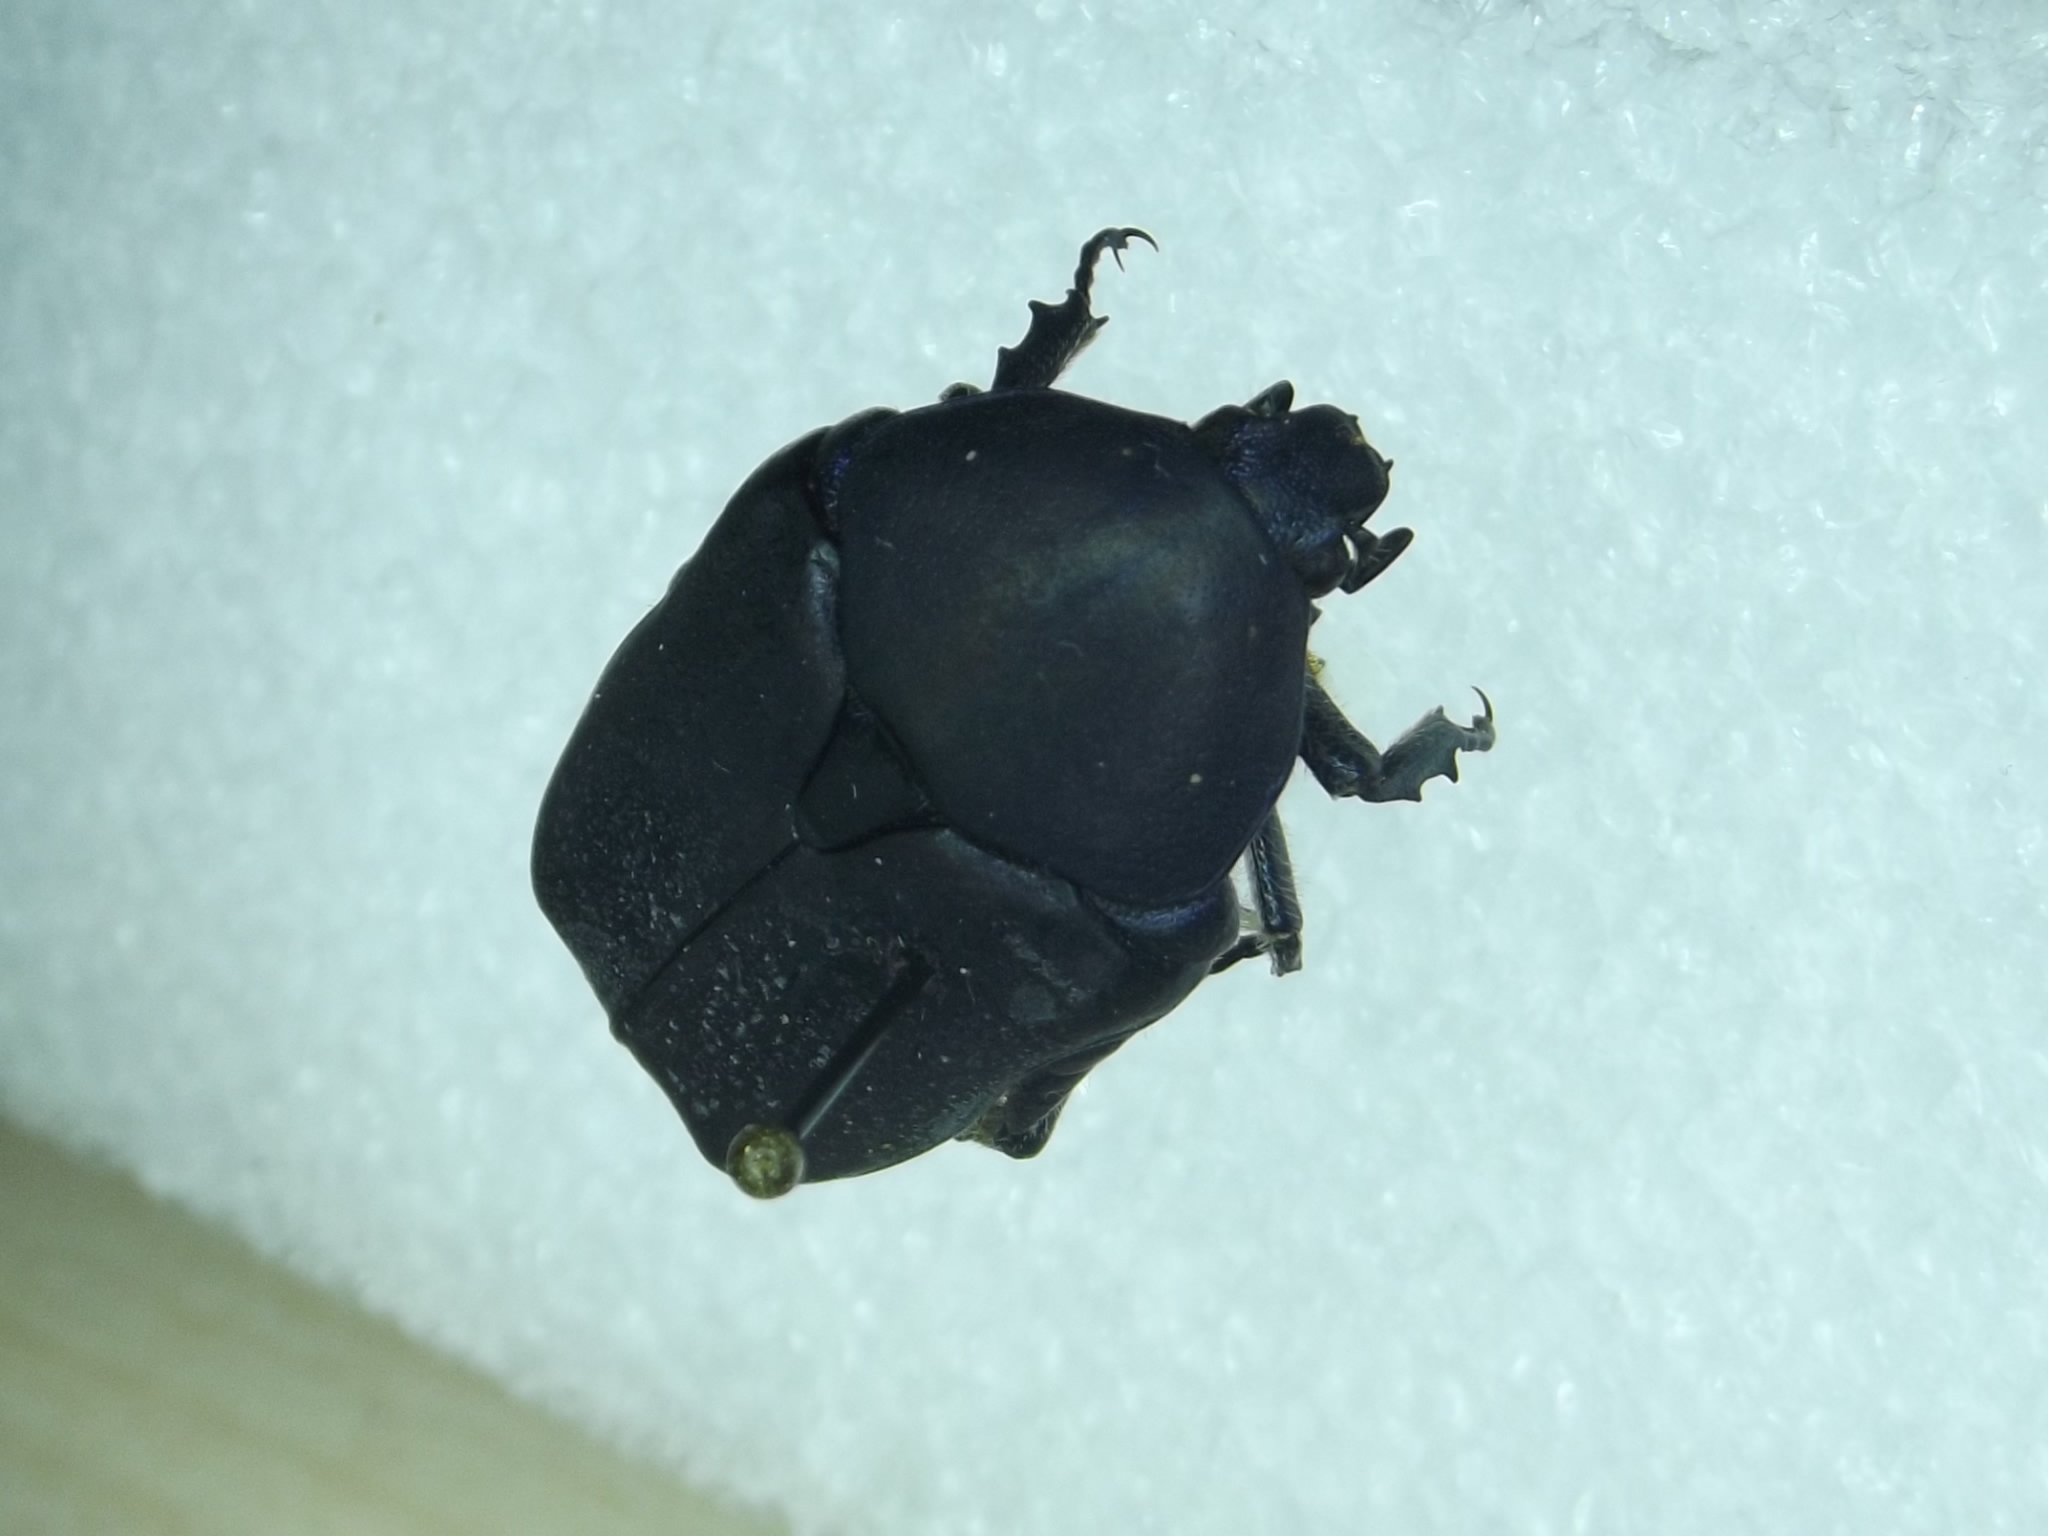Protaetia_afflicta: (503, 187, 1509, 1210)
